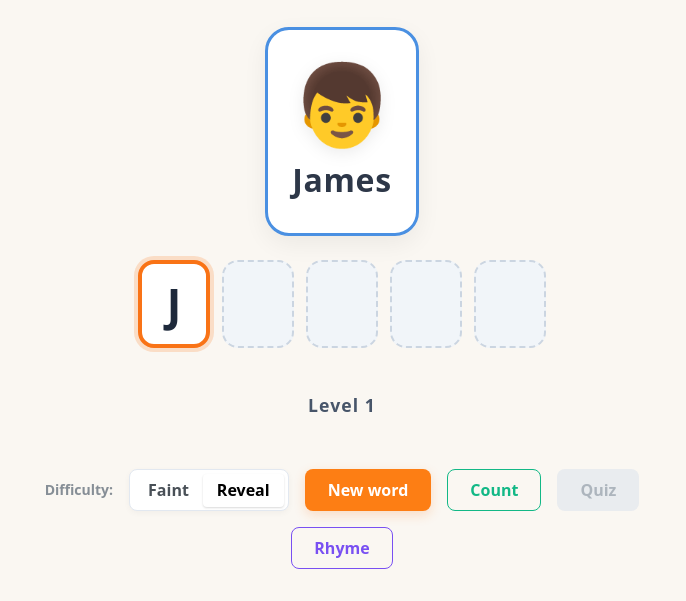
it: TypingGame › allows switching to Count mode immediately with zero completed words
What coordinates should you click on to do the following:
click the button "Count"
I would click on:
 (494, 490)
Its box is x1=447 y1=469 x2=542 y2=511.
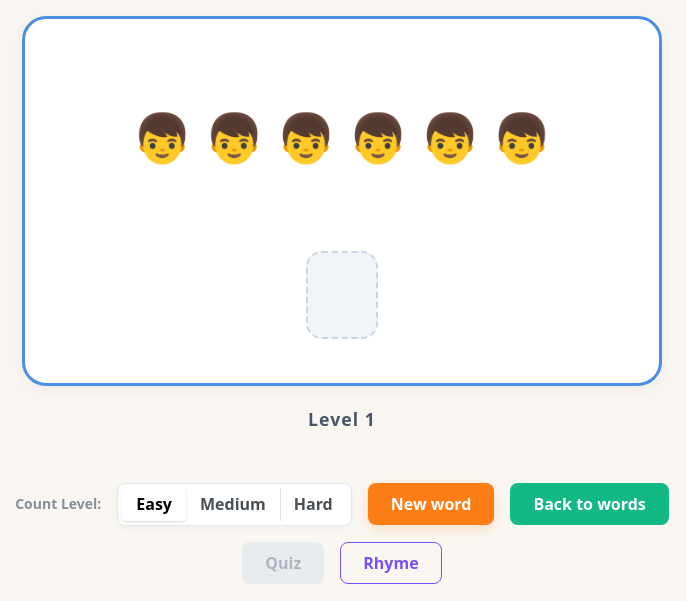
Check: the element named "count prompt with" is shown, box x1=22 y1=16 x2=662 y2=386
Check: the button "Back to words" is shown, box x1=510 y1=483 x2=669 y2=525
